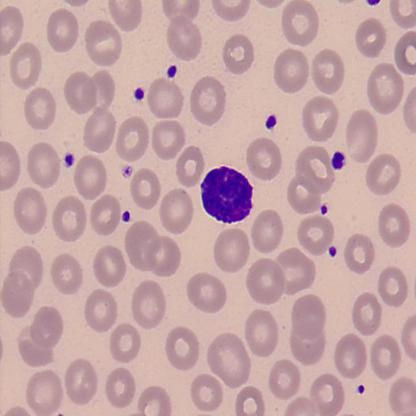Basophil: (198, 162, 256, 226)
